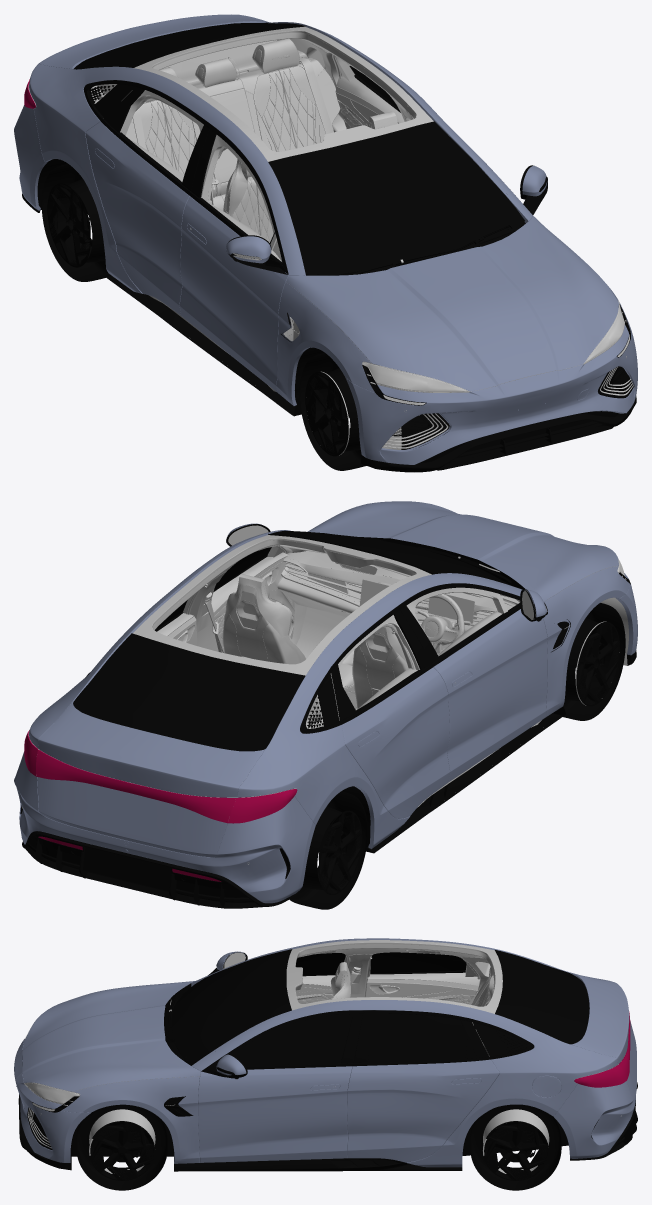
File: seal.glb
3 renders of one model, top to bottom at view 1: azimuth 30°, elevation 25°; view 2: azimuth 150°, elevation 25°; view 3: azimuth 270°, elevation 25°, orthographic. The views are drawn at different scales.
Parts seen in each view (by area): view 1: Object_6, Object_7, Object_5, Object_4, Object_8; view 2: Object_6, Object_7, Object_4, Object_5, Object_8; view 3: Object_6, Object_4, Object_8, Object_5, Object_7.
Part boxes in pixels (left/top/right/bottom): Object_6: left=14, top=15, right=637, bottom=472; Object_7: left=24, top=64, right=465, bottom=447; Object_5: left=28, top=38, right=633, bottom=448; Object_4: left=39, top=14, right=624, bottom=470; Object_8: left=50, top=187, right=89, bottom=263; Object_6: left=14, top=501, right=637, bottom=908; Object_7: left=172, top=558, right=624, bottom=909; Object_4: left=37, top=523, right=625, bottom=862; Object_5: left=24, top=512, right=630, bottom=849; Object_8: left=321, top=813, right=360, bottom=888; Object_6: left=14, top=938, right=637, bottom=1170; Object_4: left=16, top=972, right=636, bottom=1171; Object_8: left=76, top=1104, right=561, bottom=1190; Object_5: left=24, top=951, right=626, bottom=1179; Object_7: left=25, top=950, right=494, bottom=1038.
Bounding box in the file's own units: 0.0835 × 0.0579 × 0.1867.
